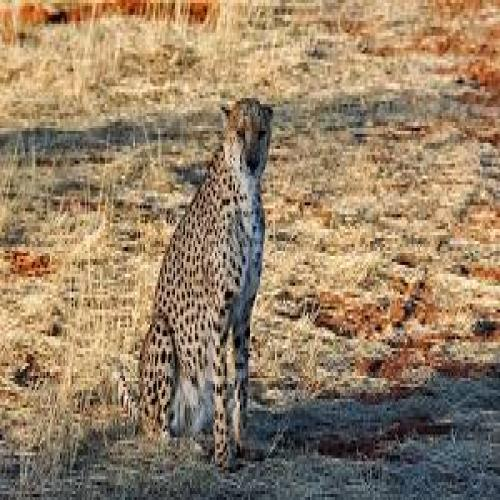cheetah-endangered: (137, 98, 272, 452)
